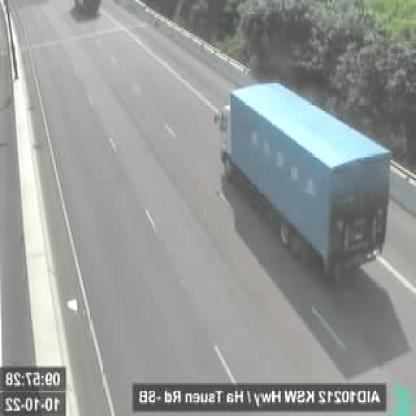Truck: (218, 84, 388, 290), (73, 2, 103, 16)
